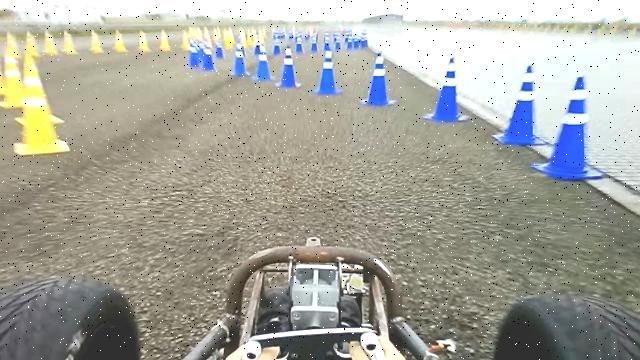blue cone: (531, 75, 605, 180), (492, 64, 548, 146), (423, 56, 470, 123), (360, 50, 397, 106), (312, 50, 343, 96), (274, 46, 302, 88), (230, 44, 251, 77), (256, 44, 274, 81), (201, 39, 217, 71), (188, 42, 200, 68)
yellow cone: (13, 60, 68, 156), (0, 56, 26, 109), (4, 31, 20, 58), (43, 30, 59, 56), (24, 31, 40, 57)
